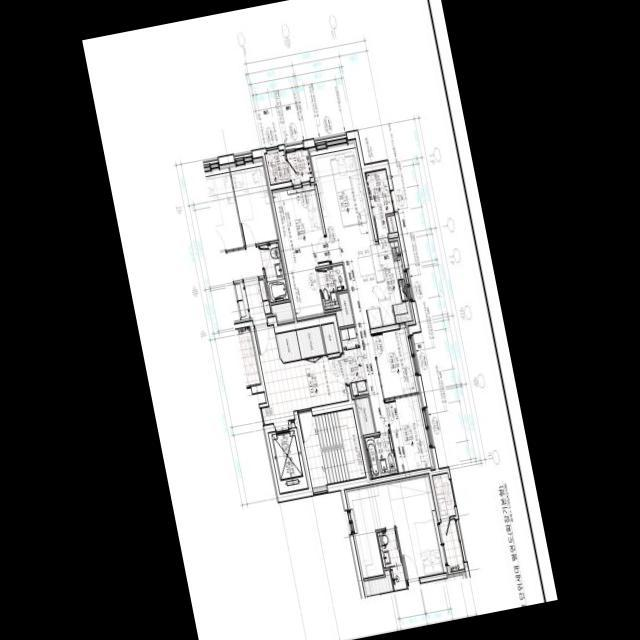background: (82, 0, 558, 640)
space_balconi: (365, 169, 394, 238), (286, 149, 312, 183)
space_bedroom: (272, 182, 329, 320), (385, 394, 435, 472), (372, 327, 420, 398)
space_elevator: (269, 427, 308, 493)
space_elevator_hall: (254, 325, 348, 424)
space_front: (339, 326, 368, 399)
space_kitchen: (355, 237, 416, 328)
space_living_room: (308, 139, 389, 431)
space_other: (296, 325, 325, 358), (276, 330, 301, 362), (355, 397, 375, 435), (336, 292, 354, 326), (321, 323, 339, 353), (387, 215, 398, 232)
space_outdoor_room: (265, 150, 290, 184)
space_staircase: (298, 408, 366, 487)
space_toilet: (365, 433, 398, 477), (317, 264, 347, 309)
